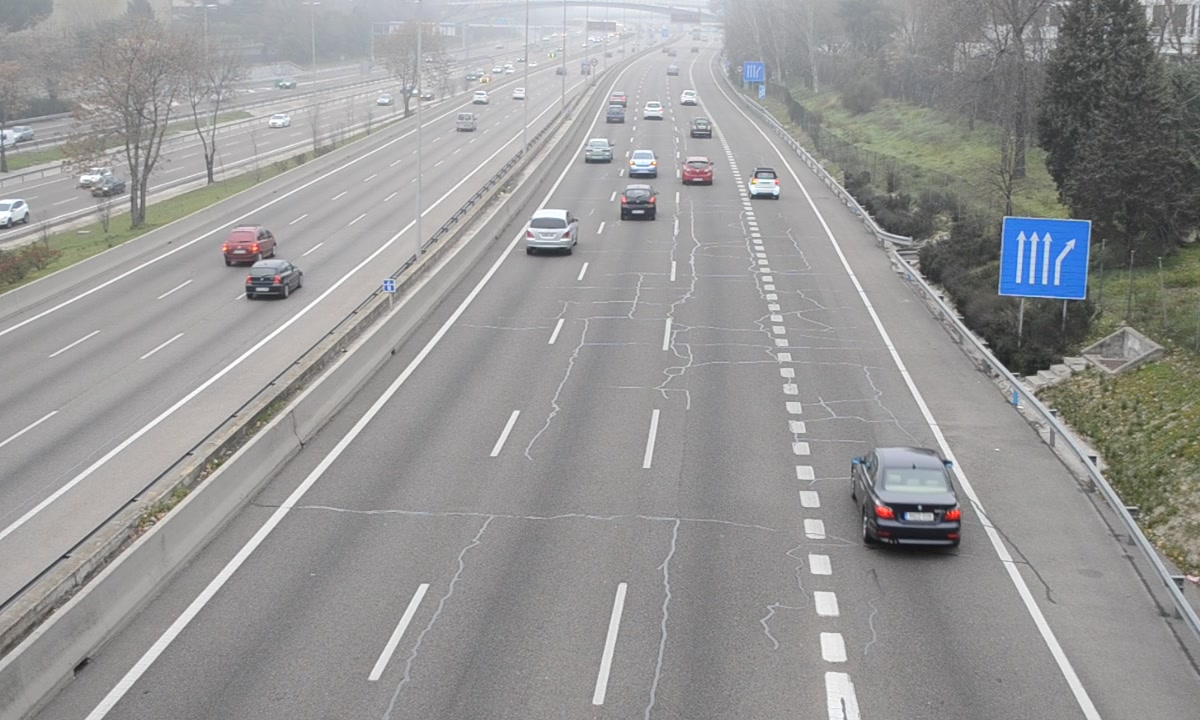car: (854, 447, 962, 555), (522, 206, 579, 255), (617, 183, 658, 223), (747, 164, 782, 201), (680, 155, 715, 189), (627, 148, 659, 180), (582, 136, 613, 163), (689, 115, 713, 140)
